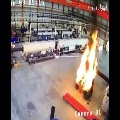fire: (75, 30, 98, 92)
